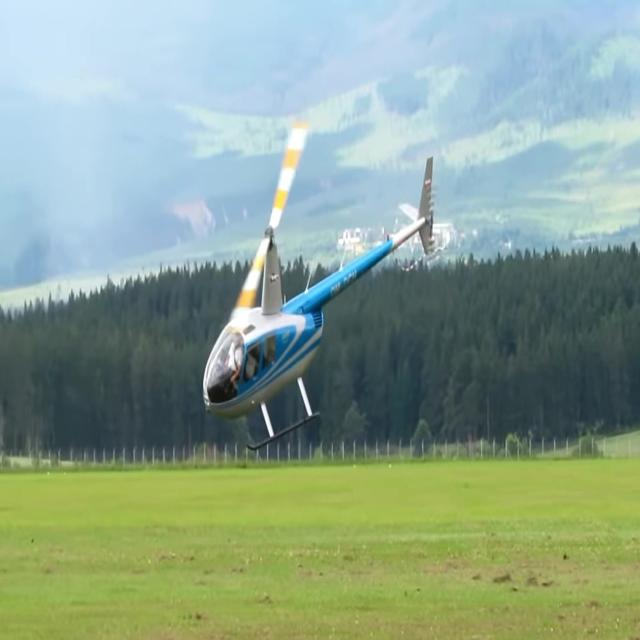CIV_HELO: (202, 154, 437, 452)
